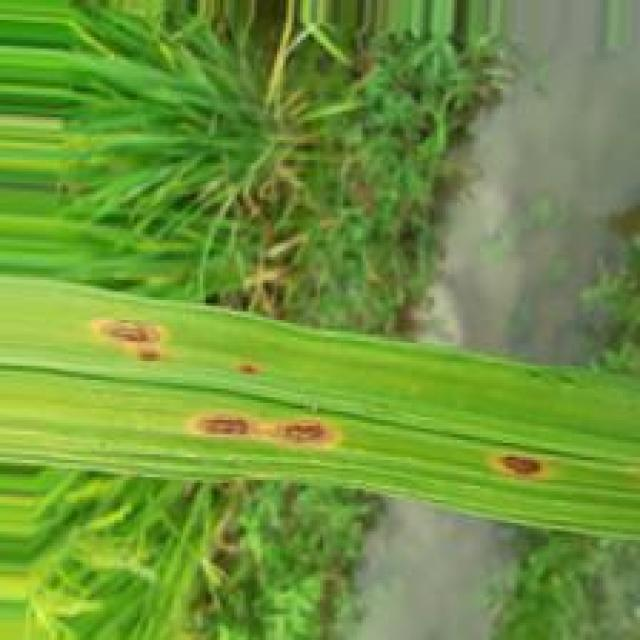Narrow_Brown_Leaf_Spot: (189, 414, 339, 444), (87, 316, 178, 345), (490, 450, 550, 482), (120, 345, 174, 364), (236, 355, 266, 379)
